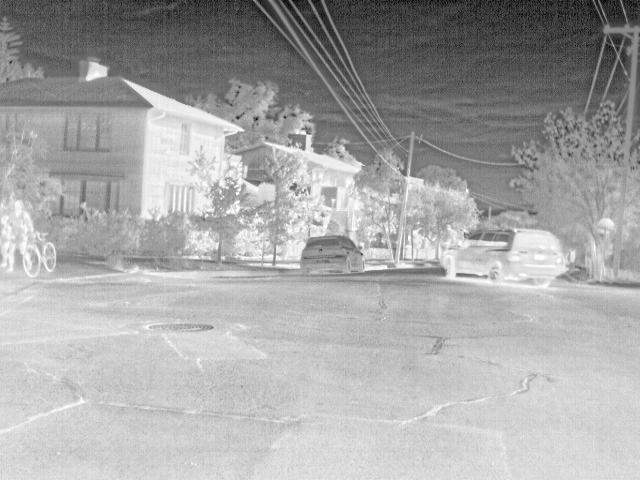car: (439, 226, 566, 292), (300, 234, 366, 278)
person: (10, 198, 30, 276)
